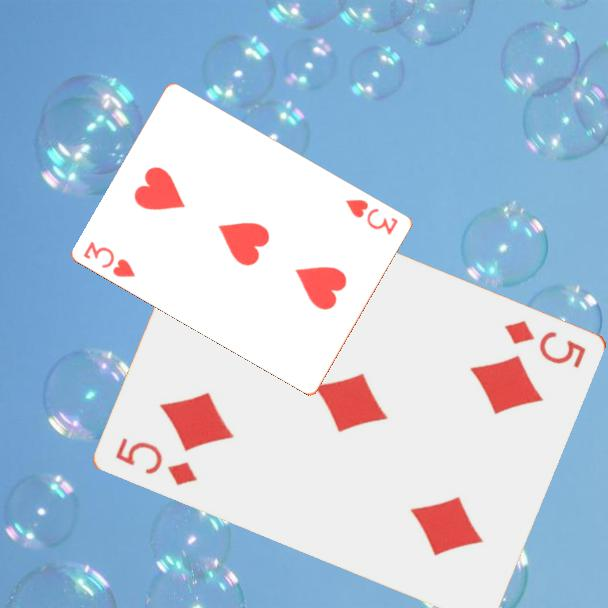d05: (112, 433, 201, 489), (501, 316, 590, 371)
h03: (342, 195, 401, 238), (80, 238, 139, 280)
